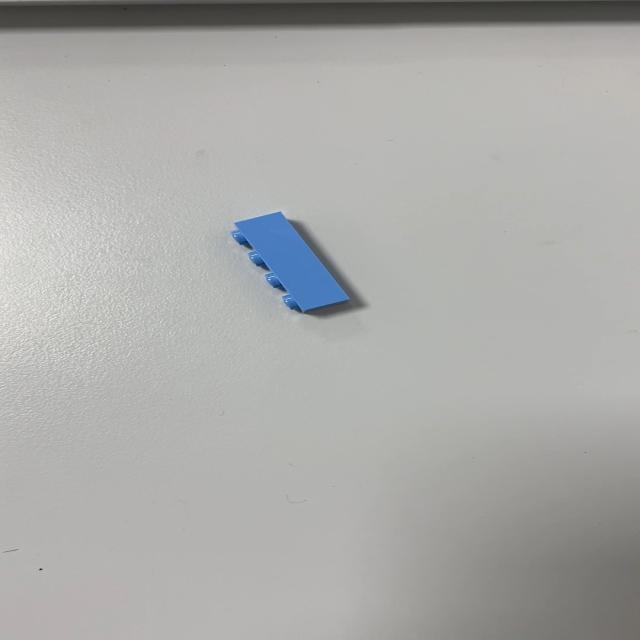C4x1x1: (229, 210, 351, 314)
